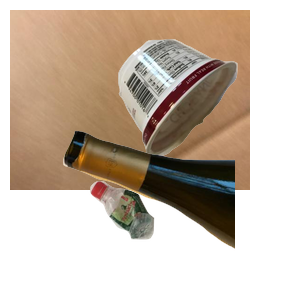cardboard: (10, 10, 250, 190)
glass: (60, 128, 300, 300)
plastic: (87, 178, 234, 300)
trash: (116, 36, 300, 187)
